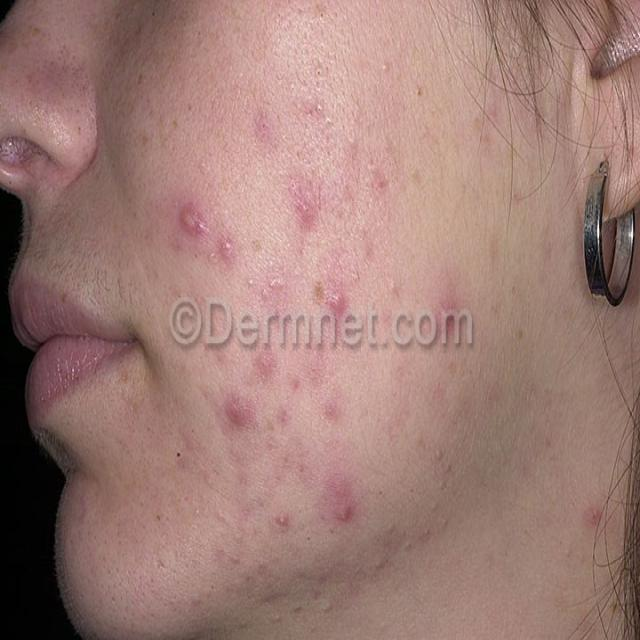Acne: (290, 173, 324, 227), (327, 475, 356, 525), (245, 271, 286, 304), (223, 390, 252, 430), (178, 201, 204, 238), (214, 235, 238, 268), (326, 284, 348, 317), (253, 346, 276, 377), (582, 504, 604, 530), (272, 506, 292, 534), (275, 405, 293, 431)
